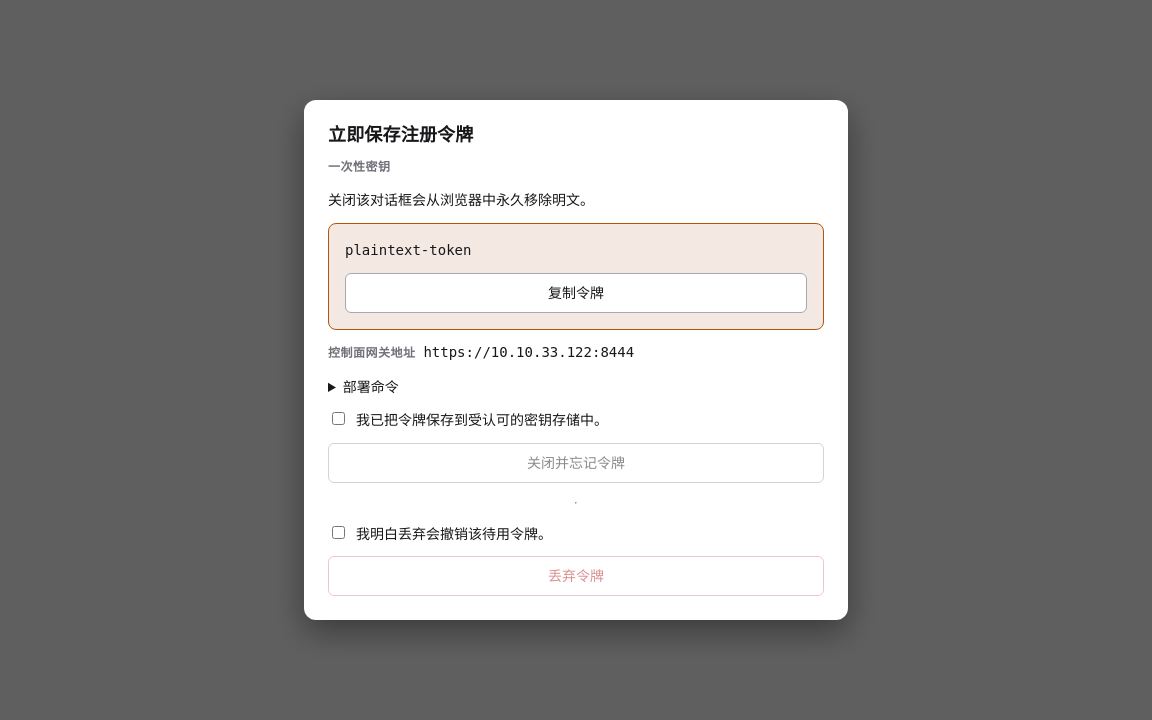
EnrollmentTokenModal › confirms a successful copy with a polite status notice (UX-009)
Click the button "复制令牌": [576, 293] box [345, 273, 807, 313]
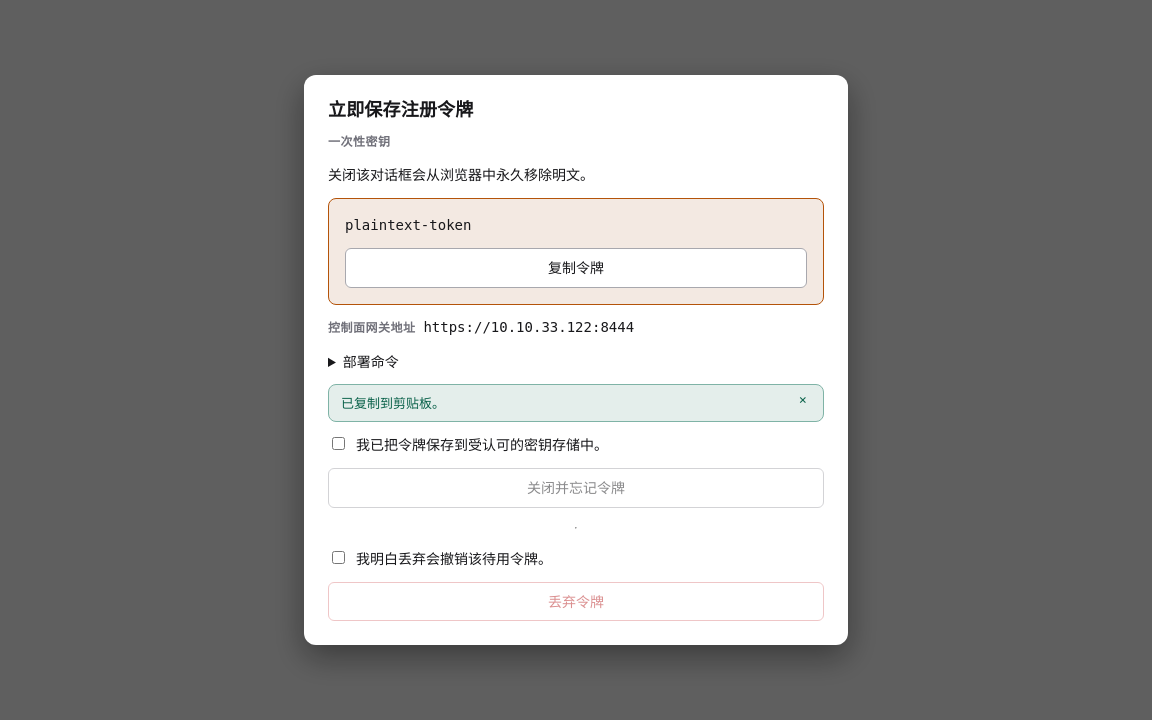
Expected: the message with test id "enrollment-copy-notice" shows "已复制到剪贴板。", [341, 395, 445, 411]
